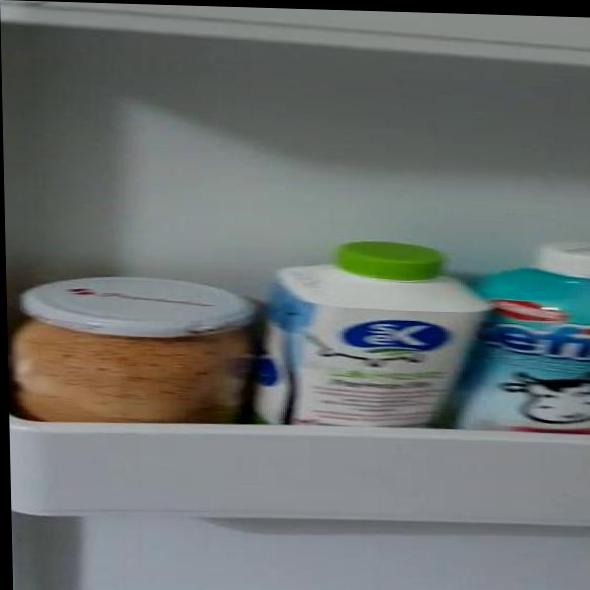milk: (254, 239, 466, 428)
